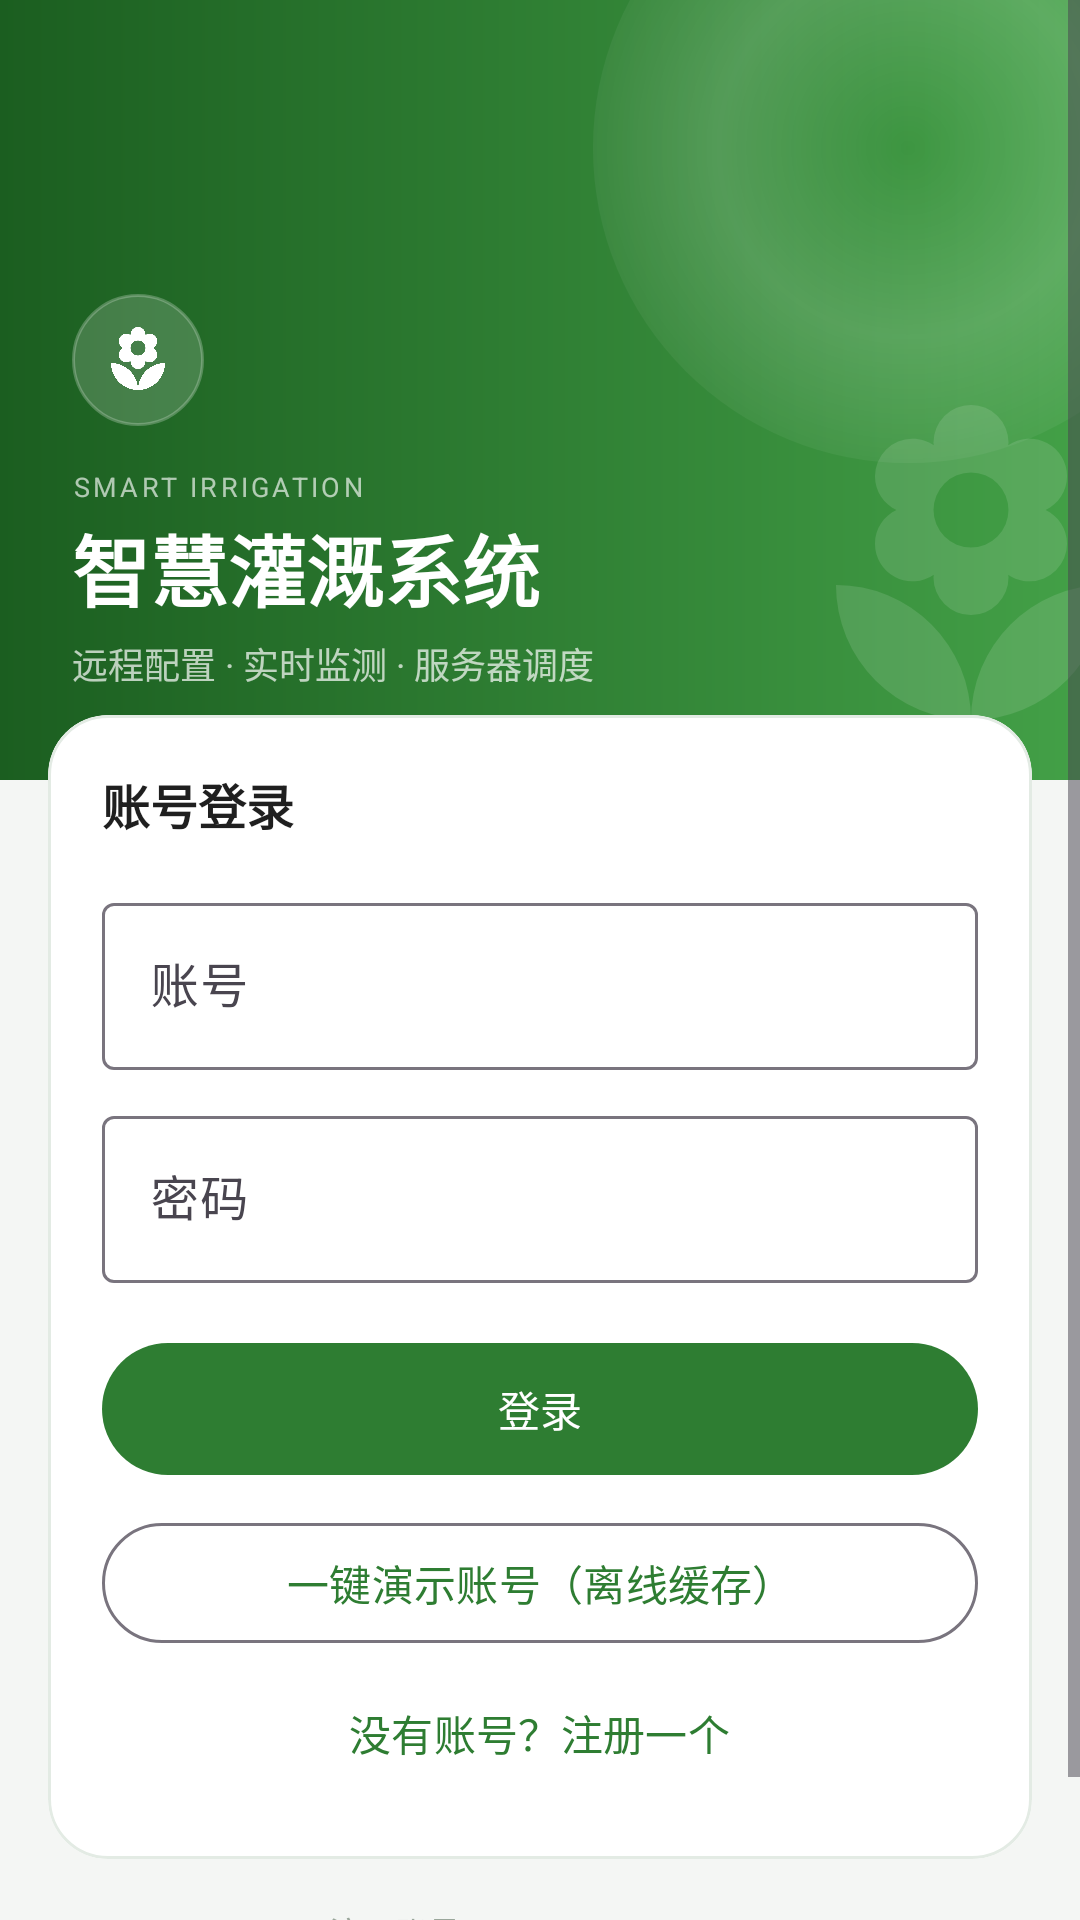

Icons on this 1080 × 1920 Android screen, each with the point to tap as (x=x, y=y):
flower: (x=138, y=358)
